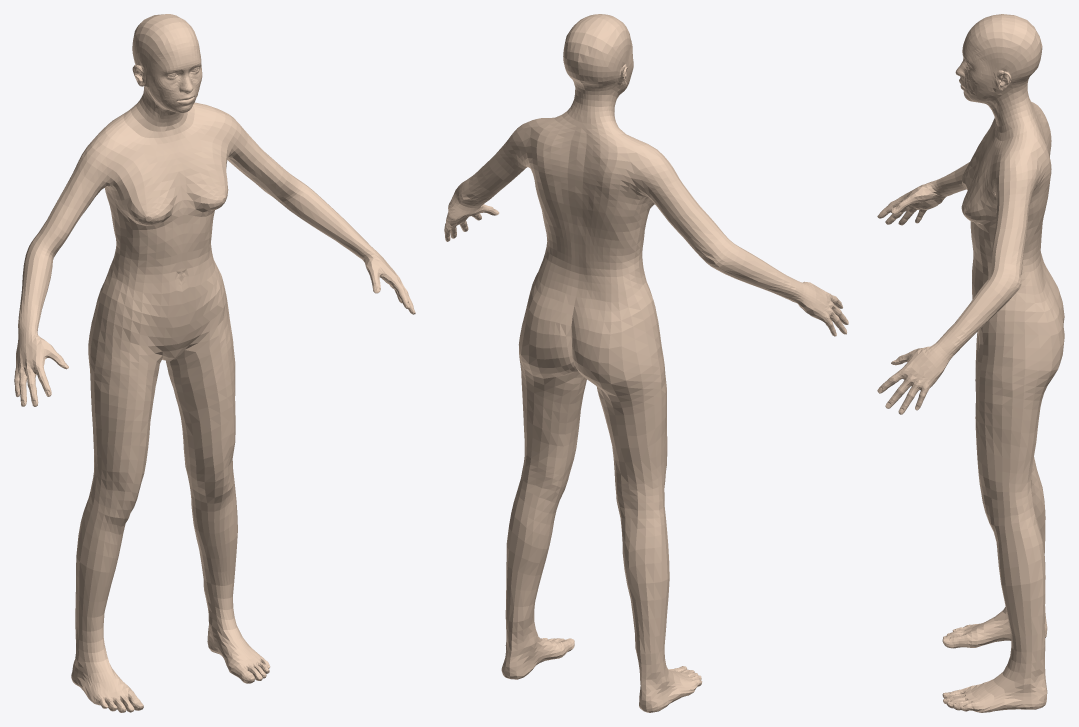
File: female-mature-fit-medium.glb
3 views of the same model, side by side, from view 1: azimuth 30°, elevation 25°; view 2: azimuth 150°, elevation 25°; view 3: azimuth 270°, elevation 25° (orthographic).
Parts seen in each view (by area): view 1: world; view 2: world; view 3: world.
Boxes of the visible parts, left/top/right/bottom form: world: left=14, top=14, right=415, bottom=712; world: left=444, top=14, right=848, bottom=712; world: left=877, top=14, right=1064, bottom=712.
Size of the model in its own units: 1.12 by 1.81 by 0.4662.
